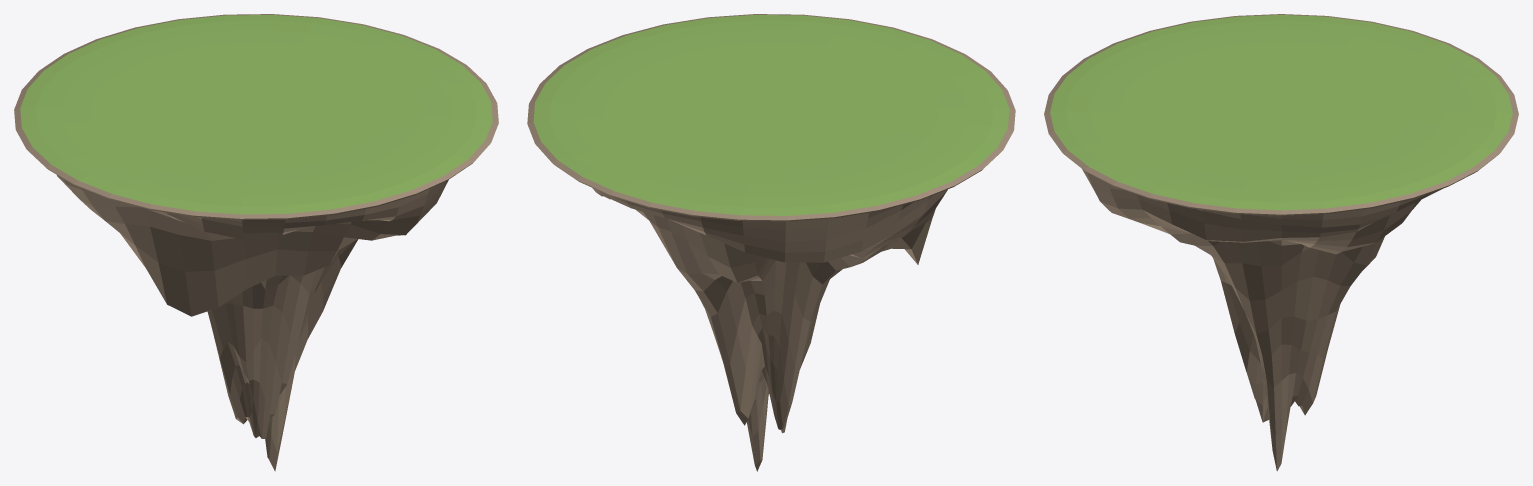
File: Ile.glb
The picture shows the model from 3 angles, left to right: view 1: azimuth 30°, elevation 25°; view 2: azimuth 150°, elevation 25°; view 3: azimuth 270°, elevation 25°; orthographic projection. The views are drawn at different scales.
Visible parts, largest first — view 1: Ile; view 2: Ile; view 3: Ile.
Boxes of the visible parts, box(x1,y1,x2,y2) form: Ile: box(14, 14, 498, 471); Ile: box(527, 14, 1015, 471); Ile: box(1044, 14, 1518, 471).
Bounding box in the file's own units: 5.55 × 4.56 × 5.55.
1 material, 1 textured.
